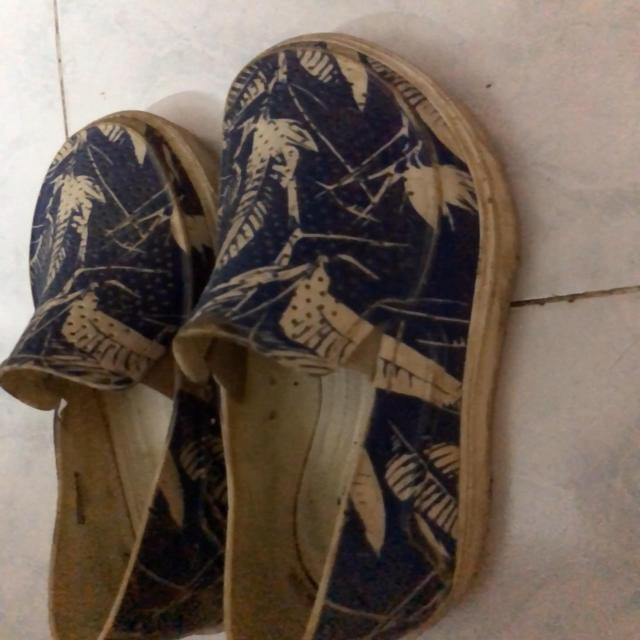shoe: (189, 34, 520, 640)
